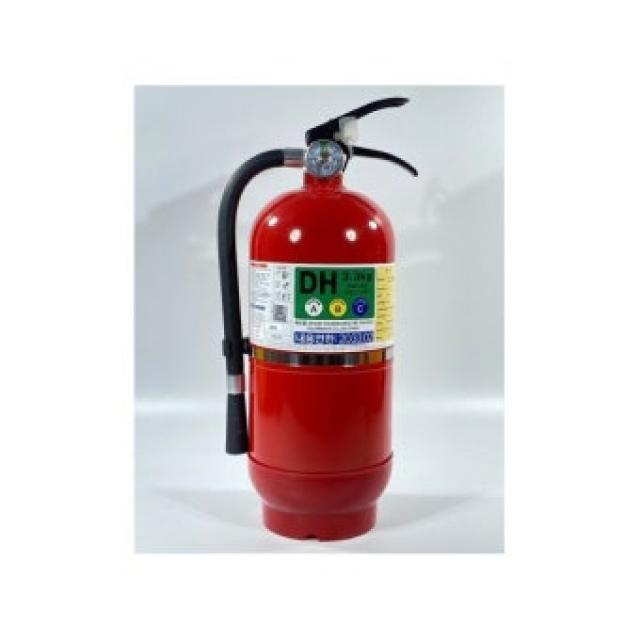pressure gauge: (305, 140, 344, 178)
